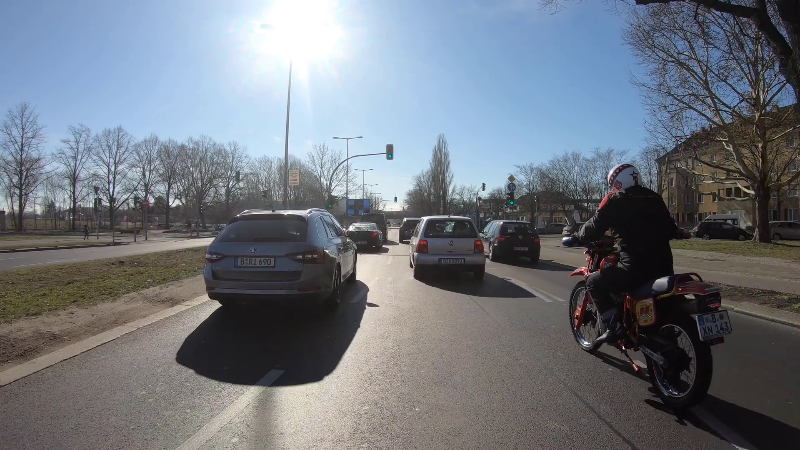Plate: (231, 254, 279, 270), (438, 255, 468, 266), (512, 245, 529, 252)
